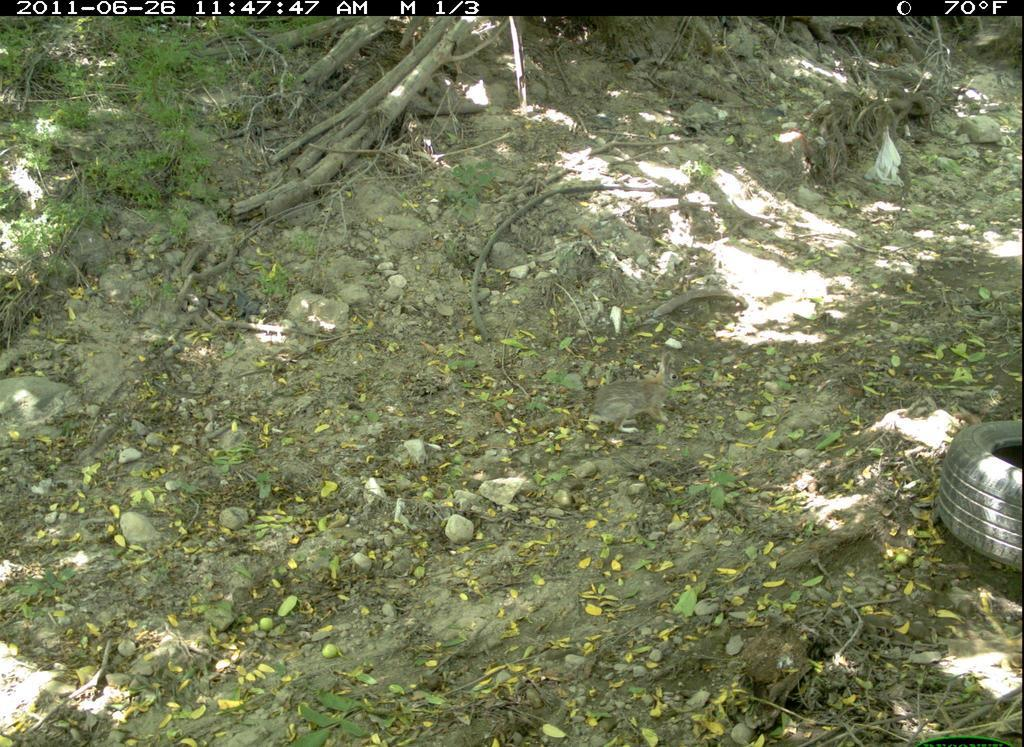rabbit: (588, 351, 685, 440)
